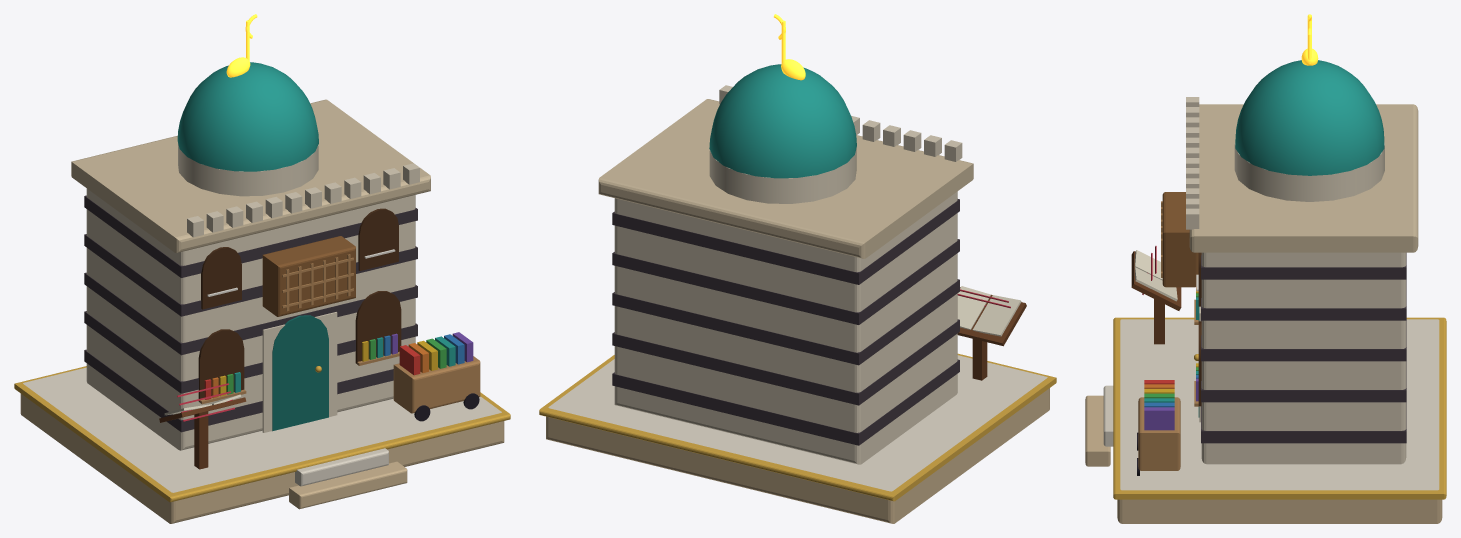
File: musicLibrary.glb
The picture shows the model from 3 angles, left to right: view 1: azimuth 30°, elevation 25°; view 2: azimuth 150°, elevation 25°; view 3: azimuth 270°, elevation 25°; orthographic projection. The views are drawn at different scales.
Parts seen in each view (by area): view 1: part_000, part_001; view 2: part_000, part_001; view 3: part_000, part_001.
Boxes of the visible parts, x1,y1,x2,y2 form: part_000: [14, 62, 510, 523]; part_001: [226, 14, 257, 77]; part_000: [539, 64, 1056, 523]; part_001: [774, 14, 805, 80]; part_000: [1085, 60, 1446, 523]; part_001: [1301, 14, 1318, 65].
Size of the model in its own units: 6.94 by 7.85 by 6.
